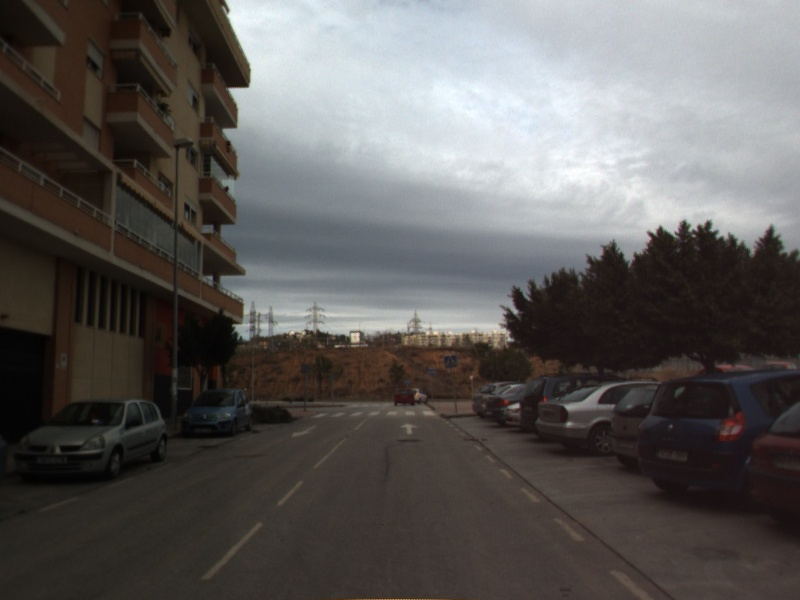STRAIGHT: (398, 421, 420, 437)
